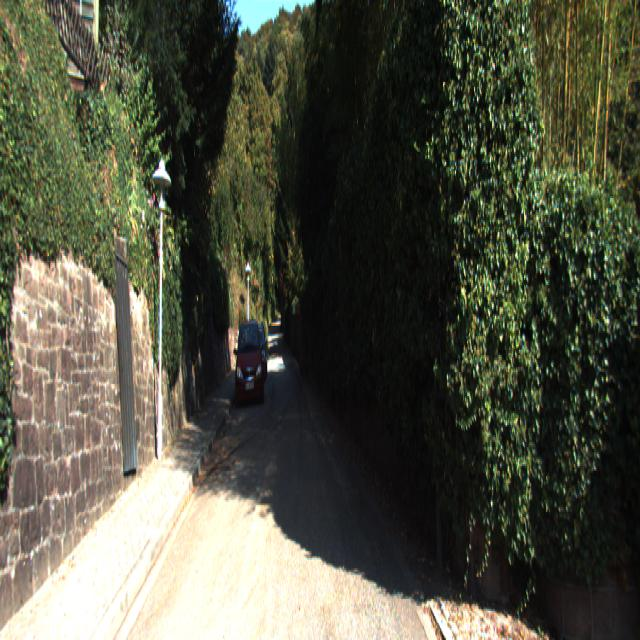Car: (234, 319, 264, 415), (245, 320, 268, 388)
